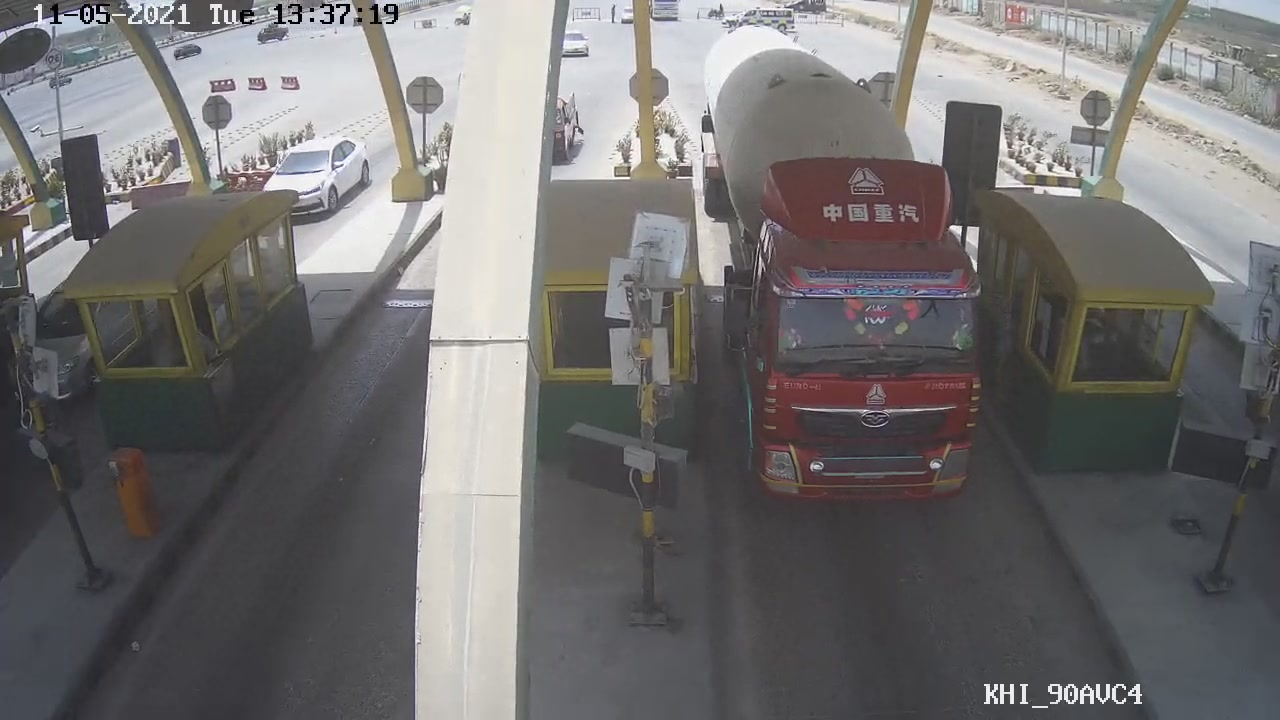F6: (716, 68, 980, 507)
